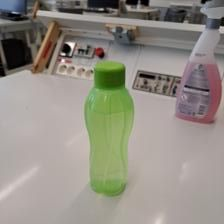bottle: (83, 59, 134, 197)
